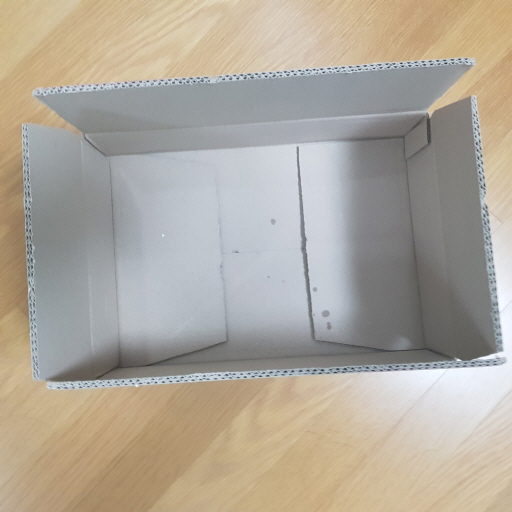Paper_0: (20, 56, 512, 400)
